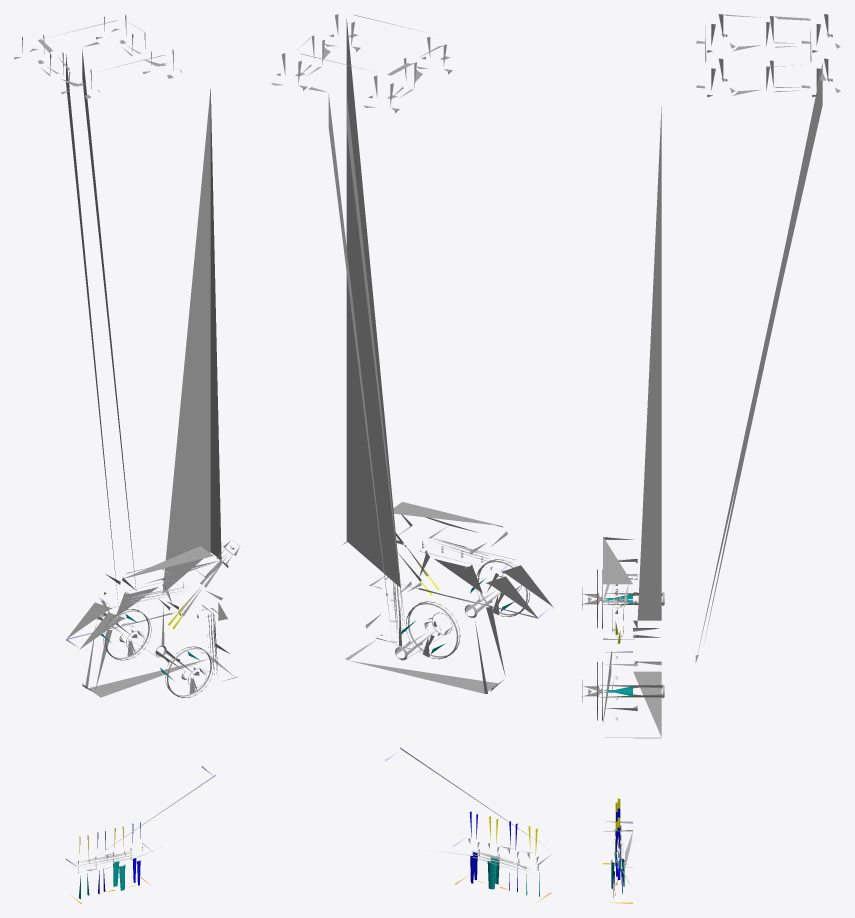
3 renders of one model, left to right at view 1: azimuth 30°, elevation 25°; view 2: azimuth 150°, elevation 25°; view 3: azimuth 270°, elevation 25°, orthographic. The views are drawn at different scales.
Parts seen in each view (by area): view 1: F19721000063102000138_001_sym_of_zb_ub_auflage_37_fa (×3); view 2: F19721000063102000138_001_sym_of_zb_ub_auflage_37_fa (×2); view 3: F19721000063102000138_001_sym_of_zb_ub_auflage_37_fa (×2).
Boxes of the visible parts, x1,y1,x2,y2 form: F19721000063102000138_001_sym_of_zb_ub_auflage_37_fa (×3): [14, 14, 240, 898]; F19721000063102000138_001_sym_of_zb_ub_auflage_37_fa (×2): [271, 14, 552, 873]; F19721000063102000138_001_sym_of_zb_ub_auflage_37_fa (×2): [582, 14, 840, 885].
Size of the model in its own units: 144 by 172 by 640.
